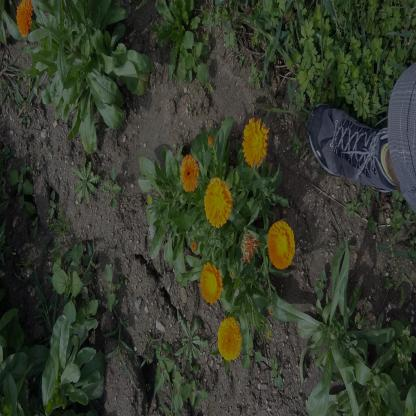marigold: (206, 180, 232, 226), (268, 223, 294, 268), (243, 119, 266, 166), (200, 264, 223, 305), (219, 318, 241, 360), (181, 156, 199, 190), (17, 2, 34, 38)
